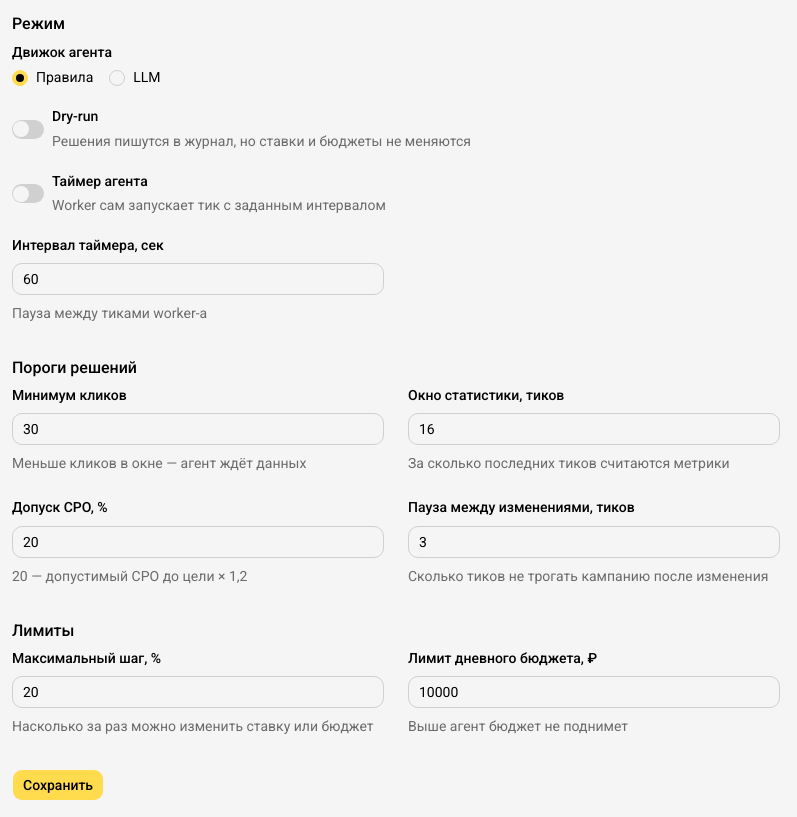
Test: AgentConfigForm › валидная форма → action получает значения формы, показывается «Сохранено»
Replace the text in the field labelled "Максимальный шаг, %" with "15" at (198, 692), box [12, 676, 384, 708]
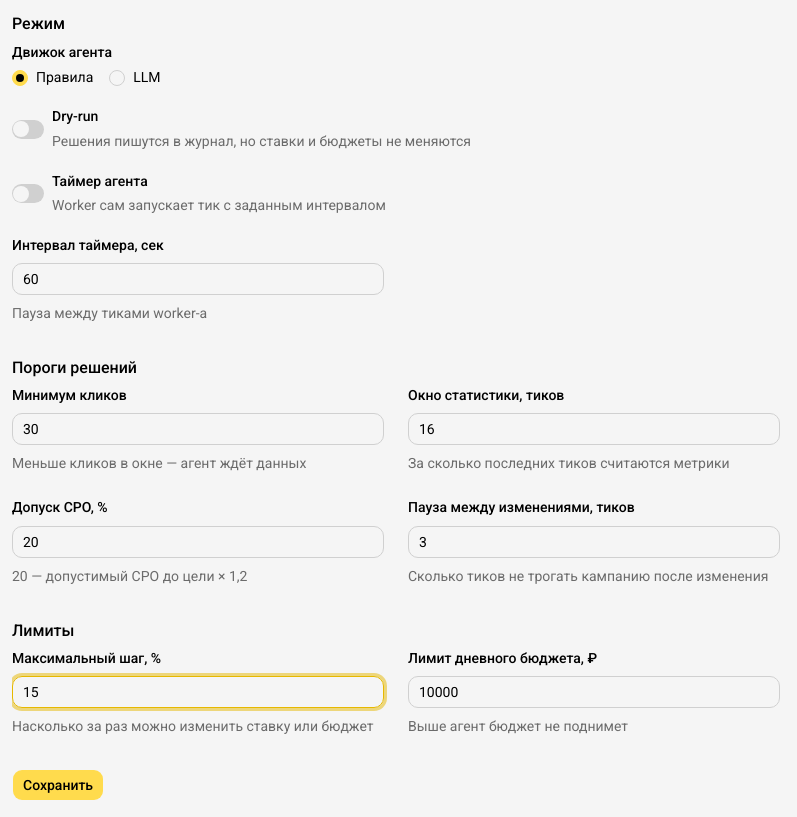
Click the switch named "Dry-run" at (28, 129), box [12, 120, 44, 139]
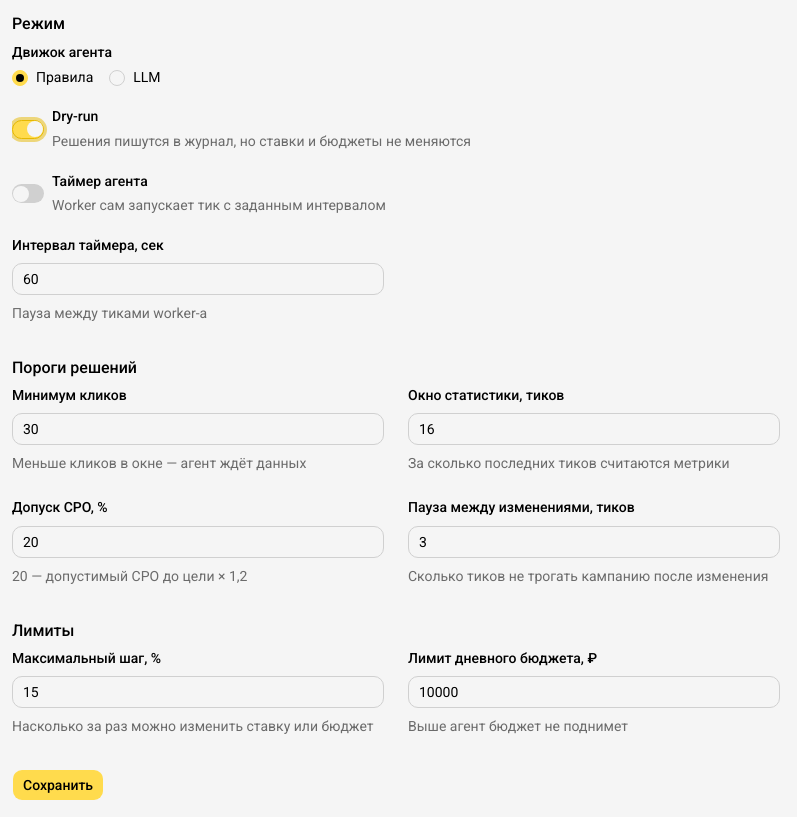
Click the button "Сохранить" at (58, 785), box [12, 769, 104, 801]
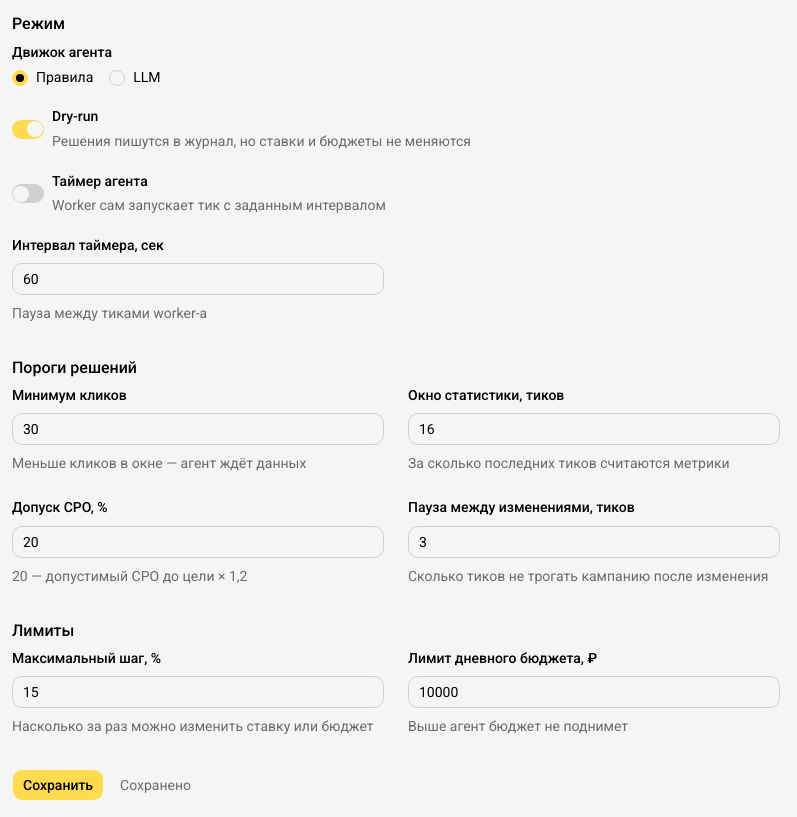
Check: the message reads "Сохранено", box [120, 777, 191, 793]
